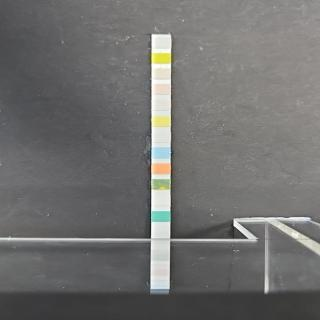mark: (151, 52, 171, 64), (152, 68, 172, 80), (152, 132, 172, 144), (152, 163, 172, 175), (150, 179, 170, 191), (151, 210, 171, 222), (152, 37, 171, 49), (152, 84, 172, 95), (152, 100, 170, 112), (152, 116, 170, 128), (152, 147, 170, 159), (152, 196, 170, 208)
